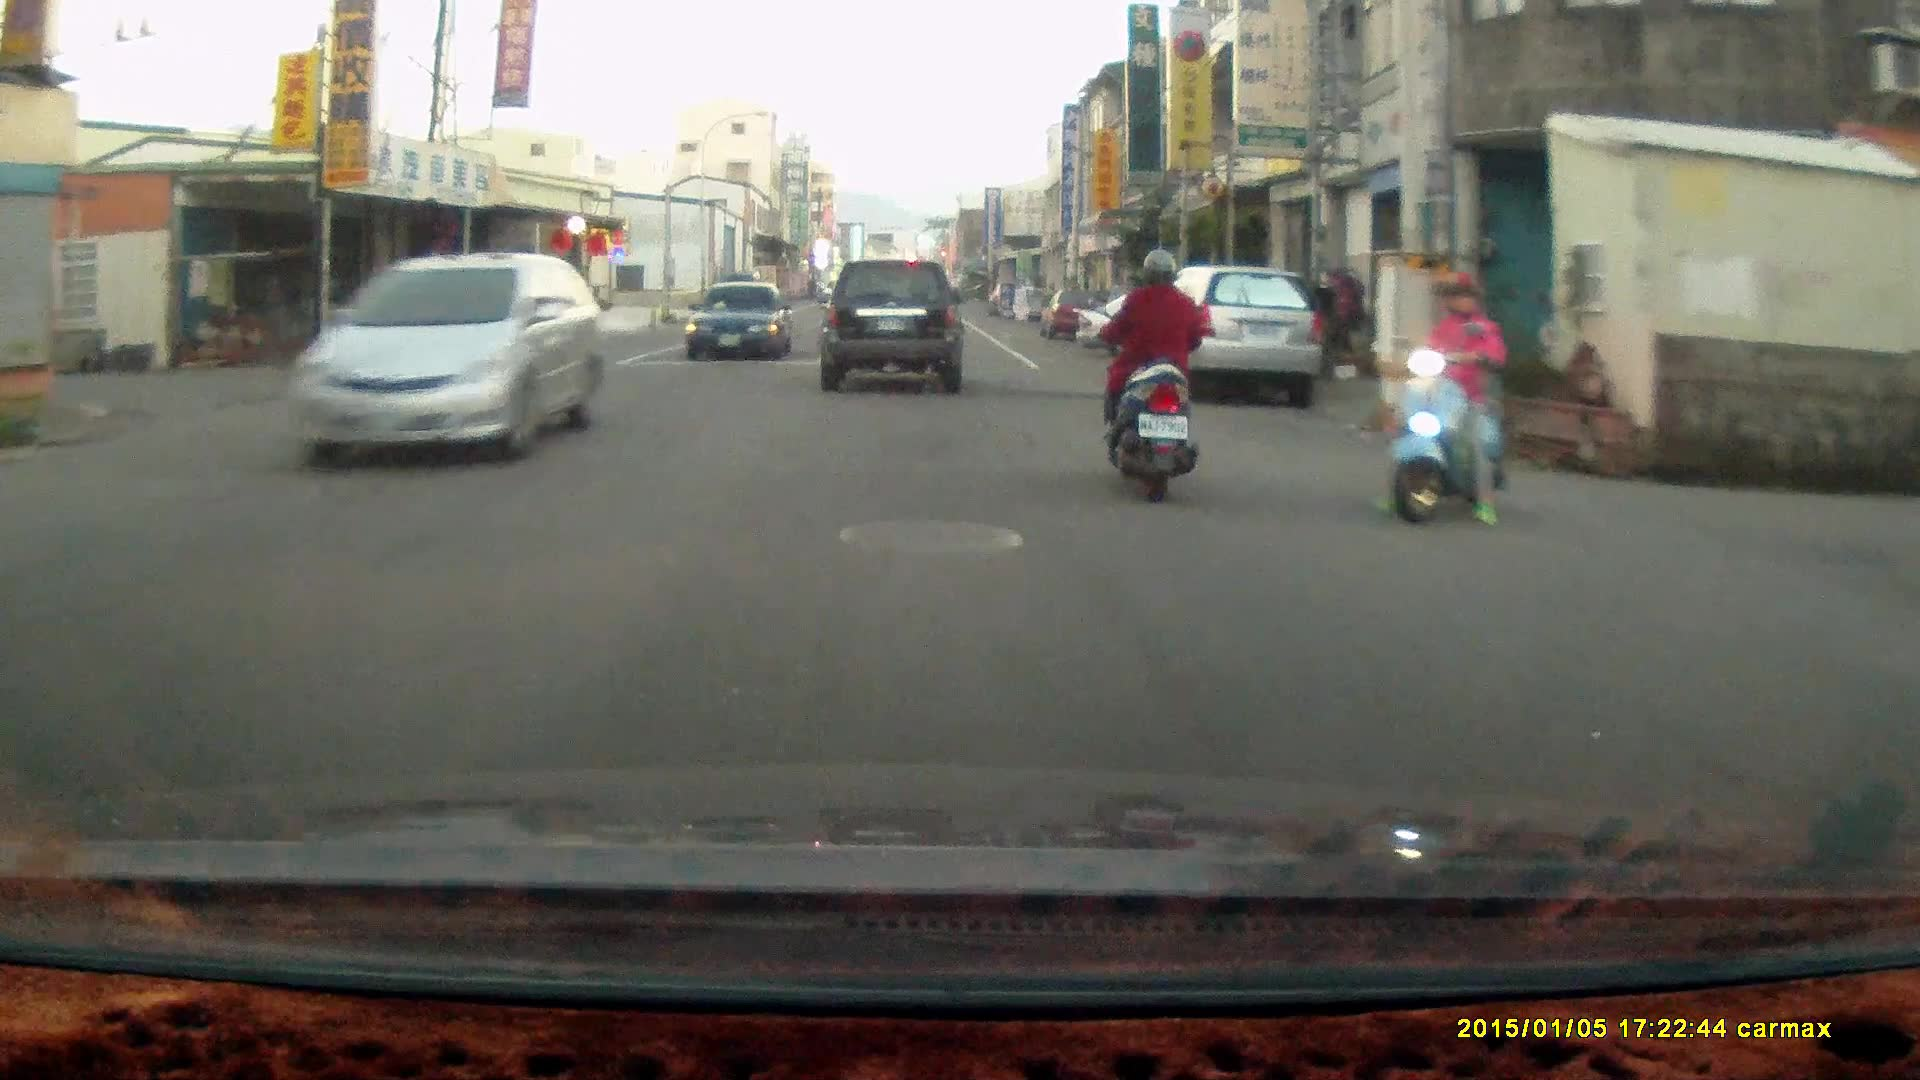rider: (1368, 268, 1506, 522), (1100, 243, 1200, 505)
vehicle: (290, 247, 609, 467), (1137, 263, 1324, 404), (819, 257, 965, 397), (1077, 283, 1258, 358), (691, 280, 796, 364)
